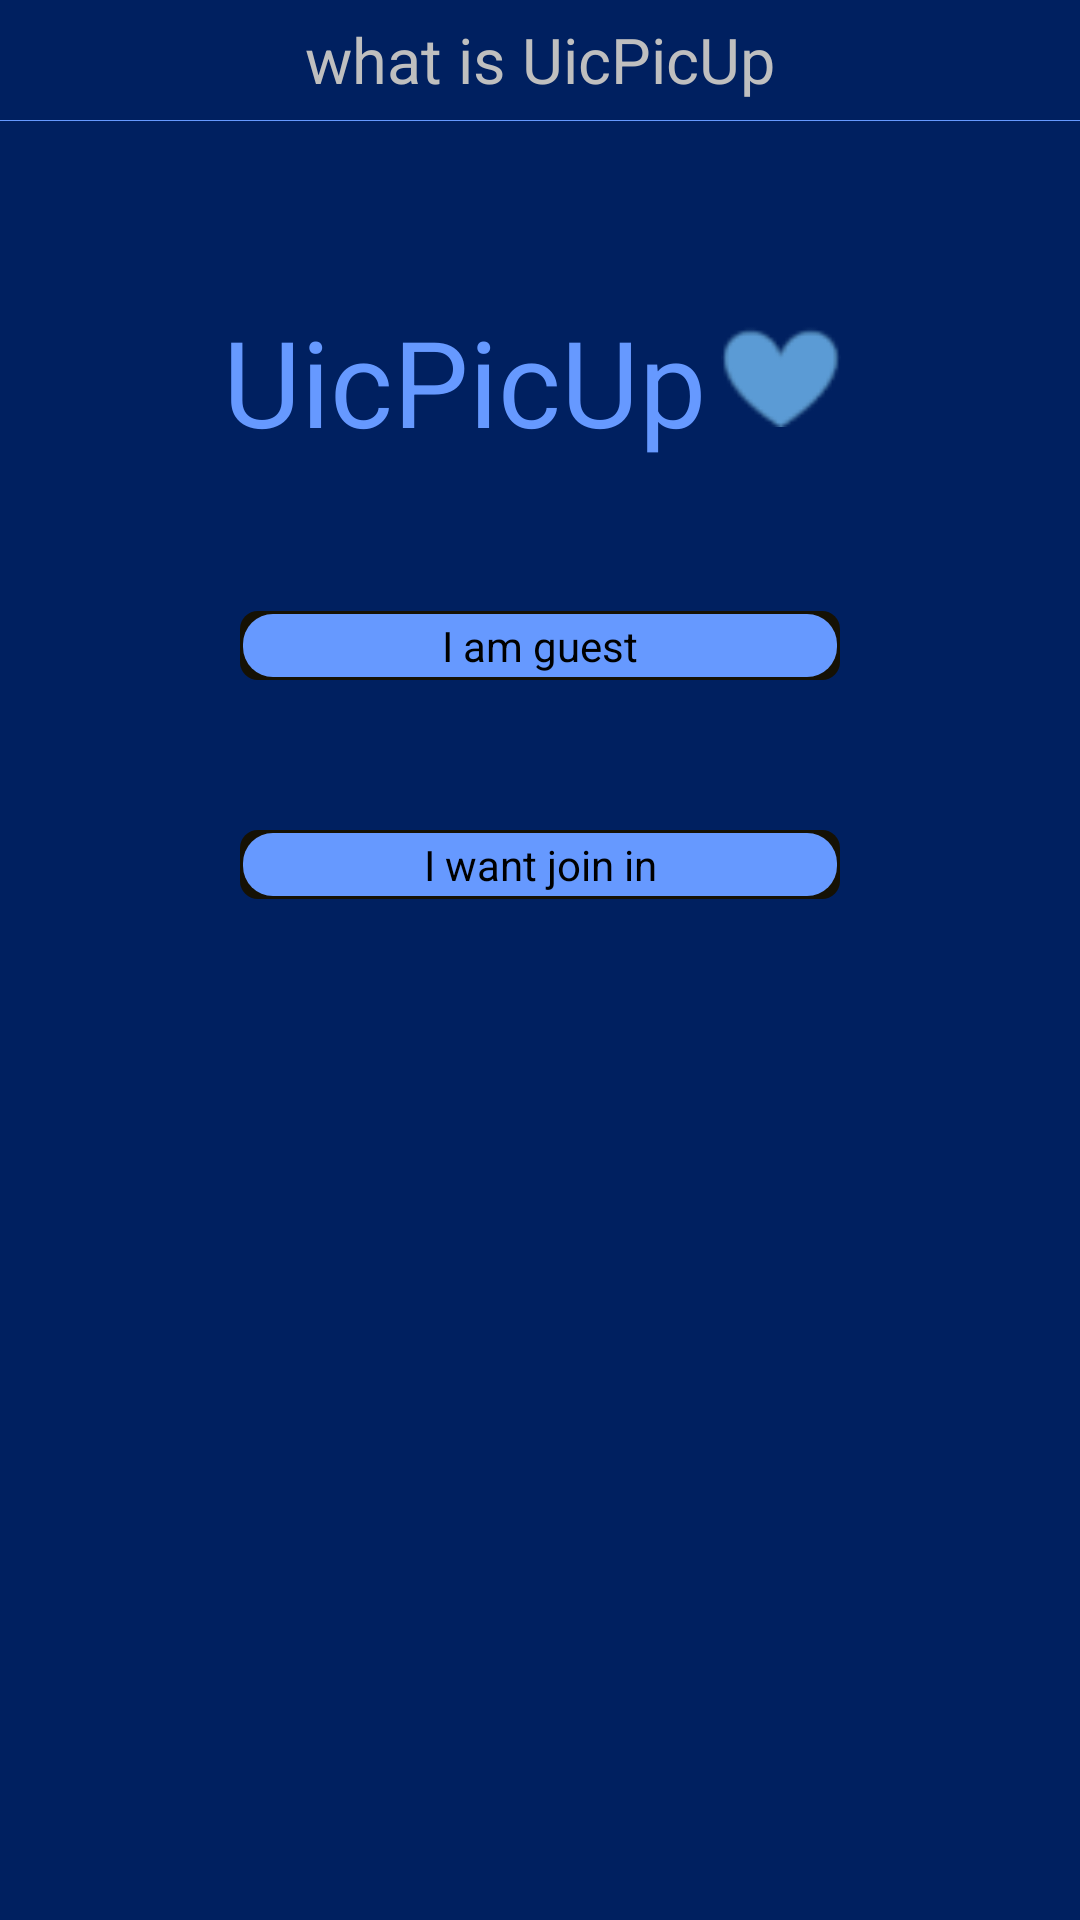

Icon click points for this 1080px x 1920px phone screenshot, format (x,y):
love: (781,378)
